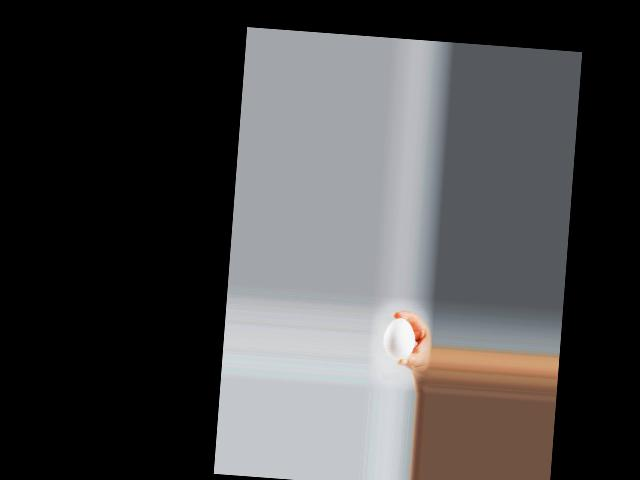egg: (382, 316, 416, 359)
